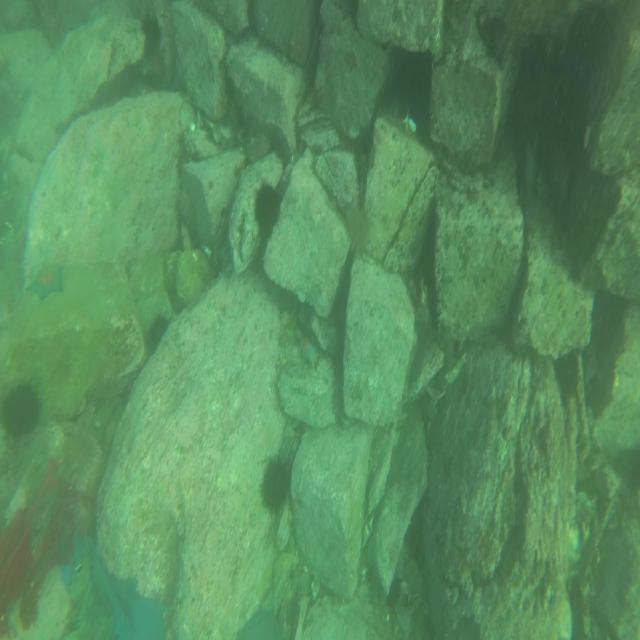echinus: (259, 449, 293, 519), (0, 381, 38, 436), (341, 200, 371, 261), (252, 179, 283, 233), (145, 311, 174, 358), (138, 13, 164, 60)
starfish: (26, 261, 66, 298)
